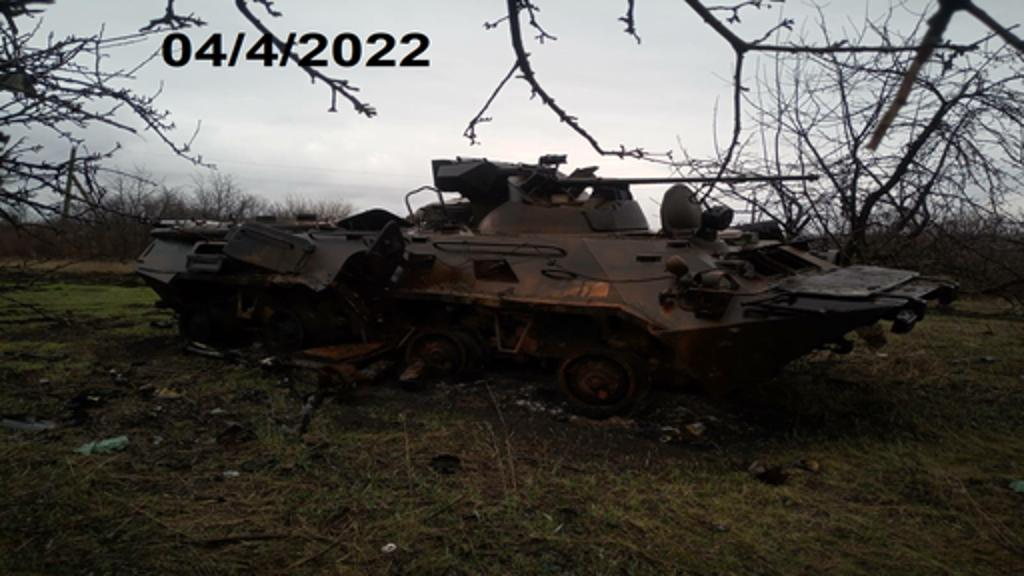APC-IFV: (130, 132, 954, 428)
